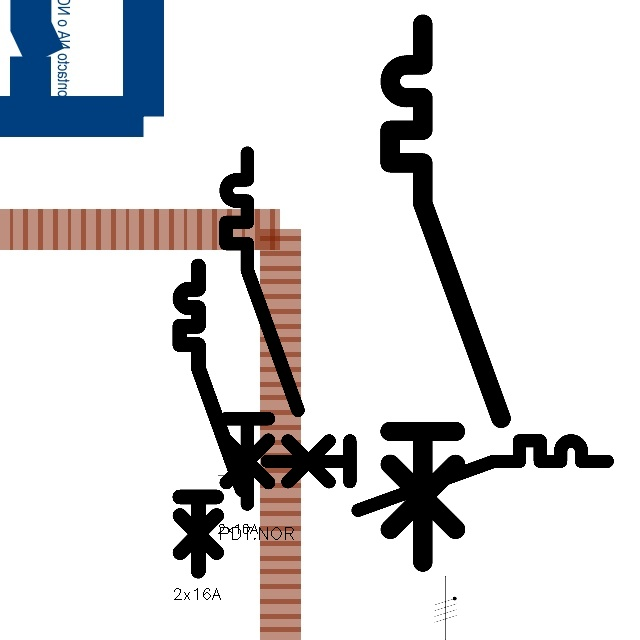interruptor_termomagnetico: (376, 10, 514, 576), (217, 144, 307, 512), (258, 432, 615, 519), (172, 258, 250, 579)
